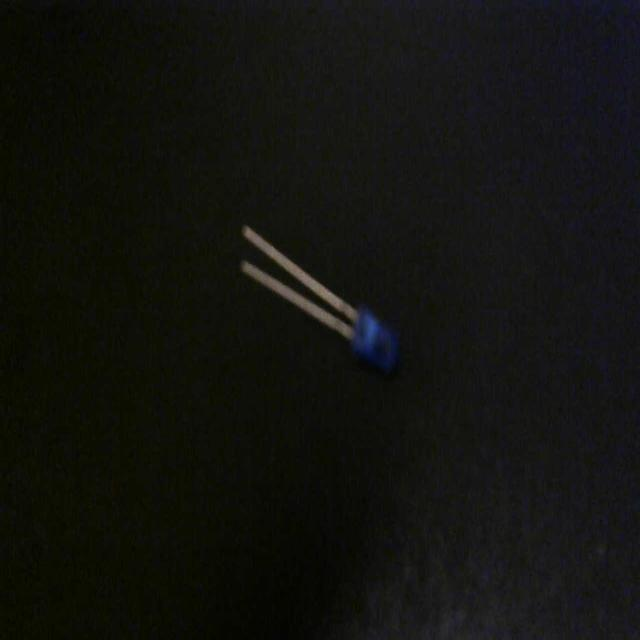blue_led: (238, 221, 399, 376)
